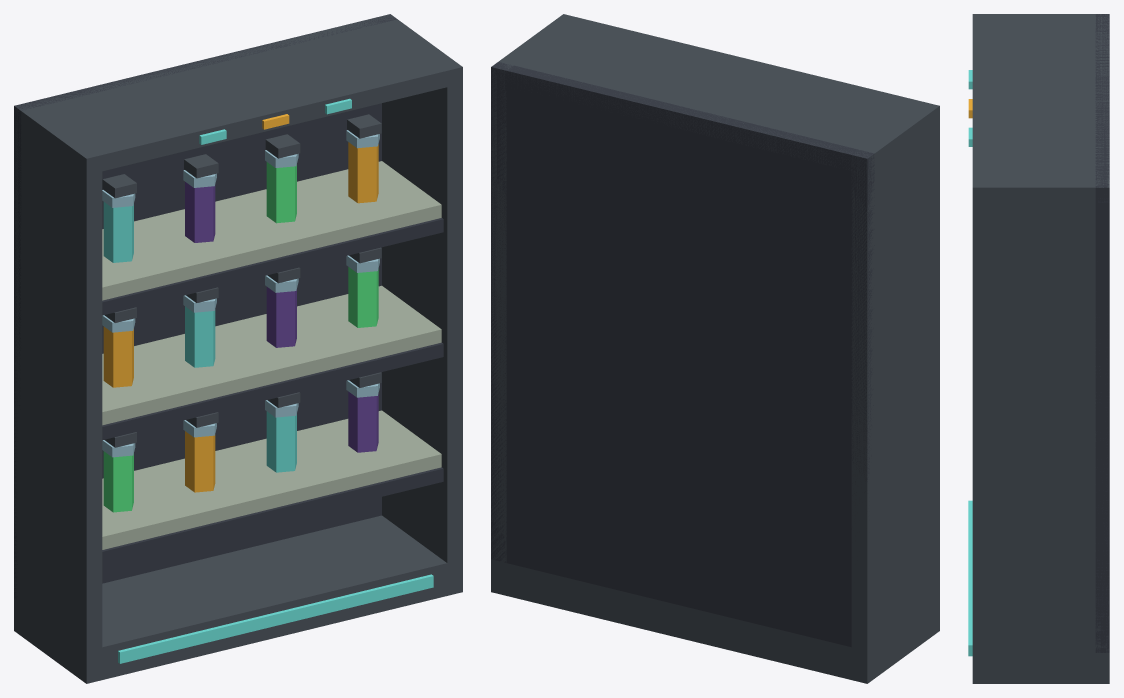
Rendered from GV_ShipSampleRack_01.glb.
3 views of the same model, side by side, from view 1: azimuth 30°, elevation 25°; view 2: azimuth 150°, elevation 25°; view 3: azimuth 270°, elevation 25° (orthographic). The views are drawn at different scales.
Parts seen in each view (by area): view 1: GV_ShipSampleRack_01; view 2: GV_ShipSampleRack_01; view 3: GV_ShipSampleRack_01.
Boxes of the visible parts, x1=… form: GV_ShipSampleRack_01: x1=14, y1=14, x2=462, y2=683; GV_ShipSampleRack_01: x1=491, y1=14, x2=939, y2=683; GV_ShipSampleRack_01: x1=968, y1=14, x2=1109, y2=683.
Bounding box in the file's own units: 1.2 × 1.6 × 0.412.
Materials: 1 (1 with a texture image).
